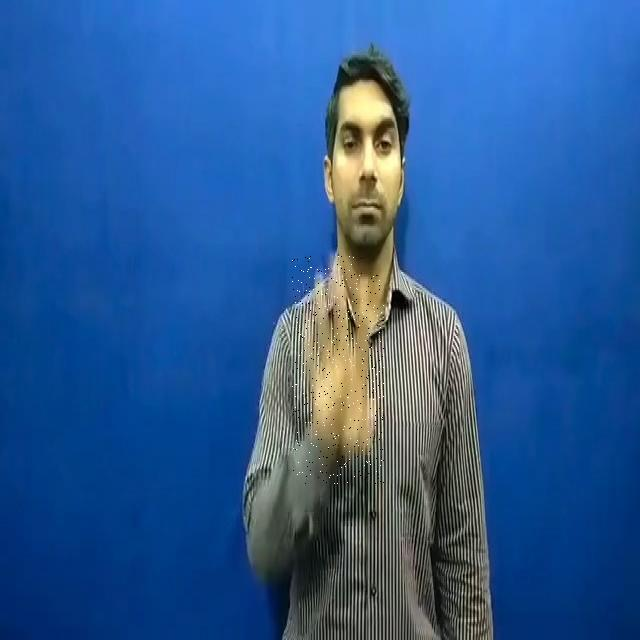french fries: (292, 256, 384, 484)
